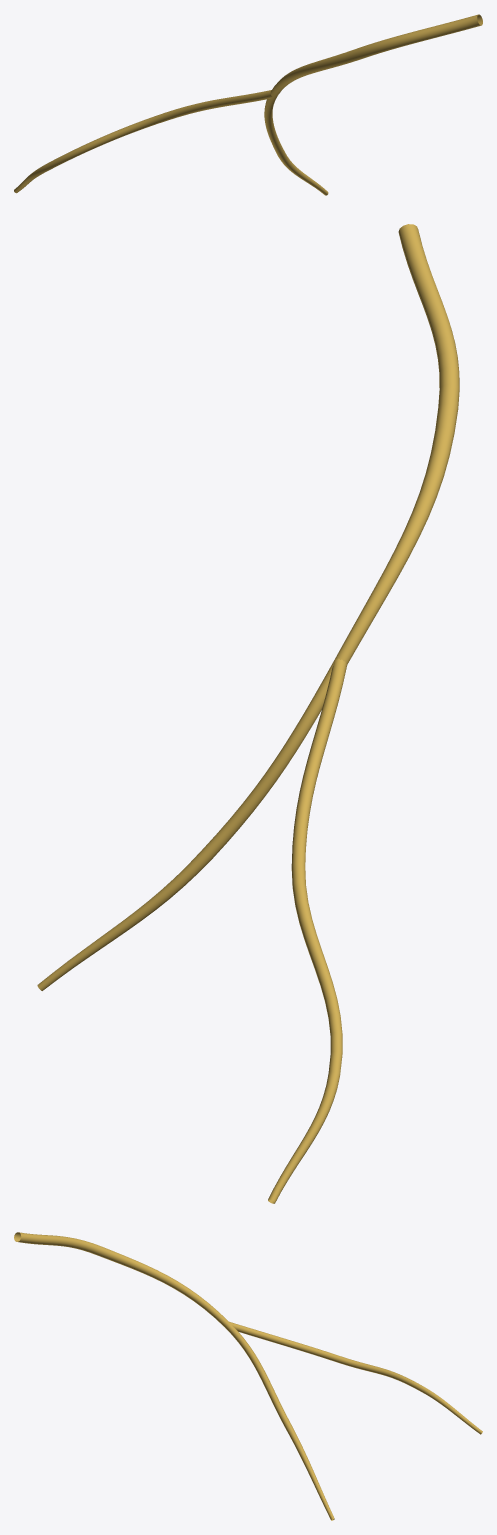
3 views of the same model, one above another, from view 1: azimuth 30°, elevation 25°; view 2: azimuth 150°, elevation 25°; view 3: azimuth 270°, elevation 25° (orthographic). The views are drawn at different scales.
Visible parts, largest first — view 1: 右侧胸内侧神经; view 2: 右侧胸内侧神经; view 3: 右侧胸内侧神经.
Part boxes in pixels (<box>): 右侧胸内侧神经: <box>14,14,482,195</box>; 右侧胸内侧神经: <box>37,224,459,1203</box>; 右侧胸内侧神经: <box>14,1232,482,1520</box>.
Bounding box in the file's own units: 0.0671 × 0.0909 × 0.1373.
